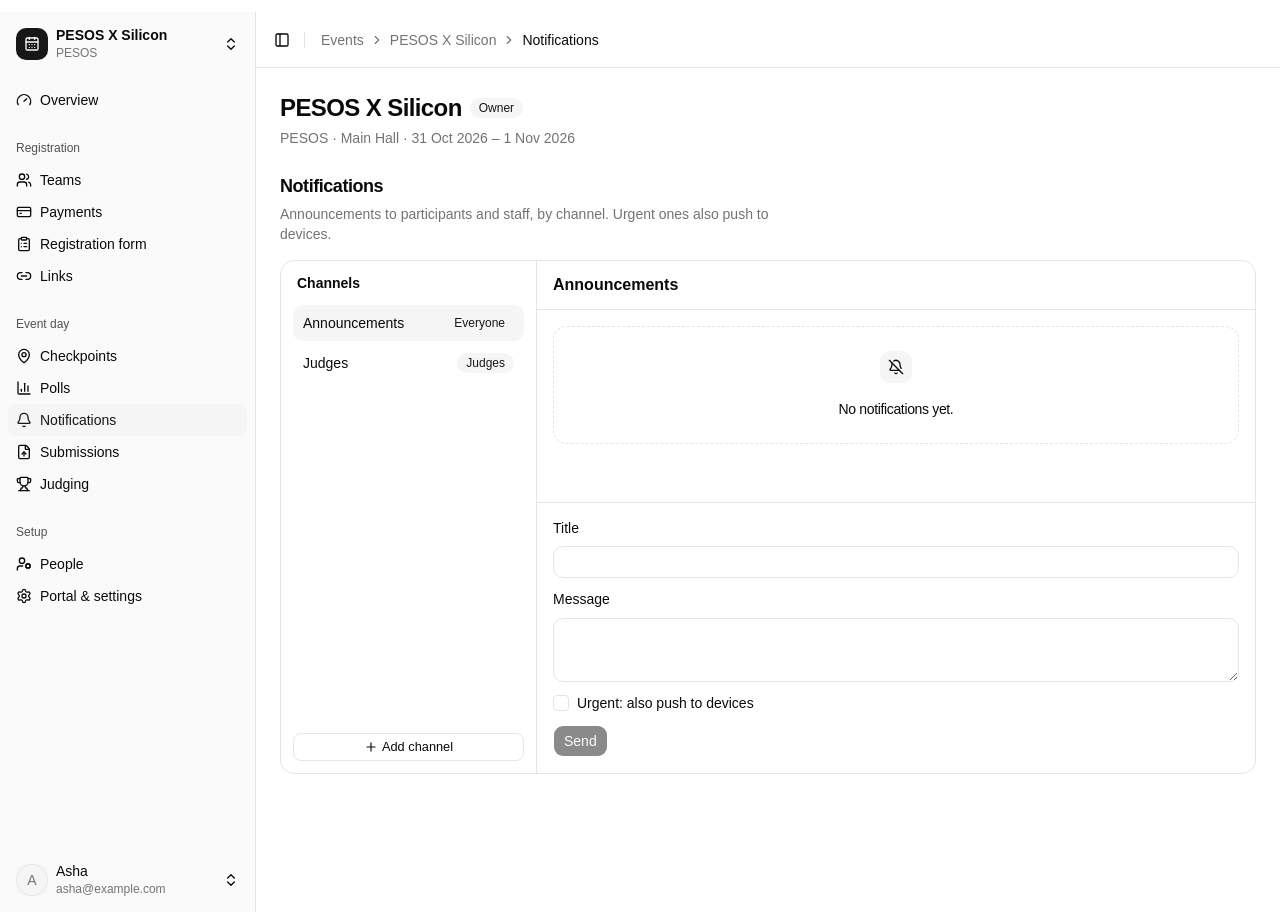
Test case: notifications › staff send to a channel they can use, urgently if needed
The image size is (1280, 912).
expect the text "No notifications yet." is shown: met, box [839,399,953,419]
In the field labelled "Title": [896, 562] box [553,546,1239,578], type "Lunch"
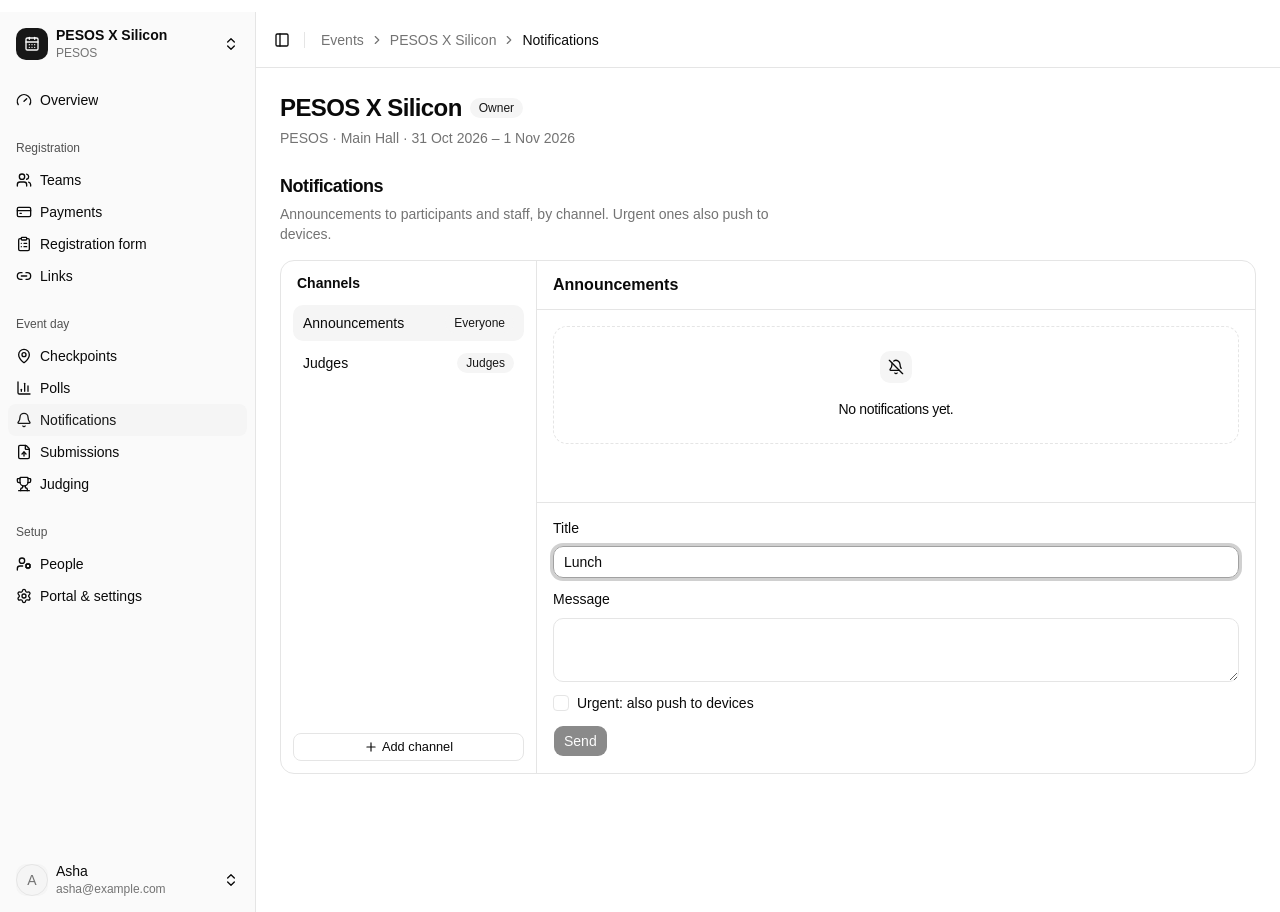
In the text box labelled "Message": [896, 650] box [553,618,1239,682], type "Now"
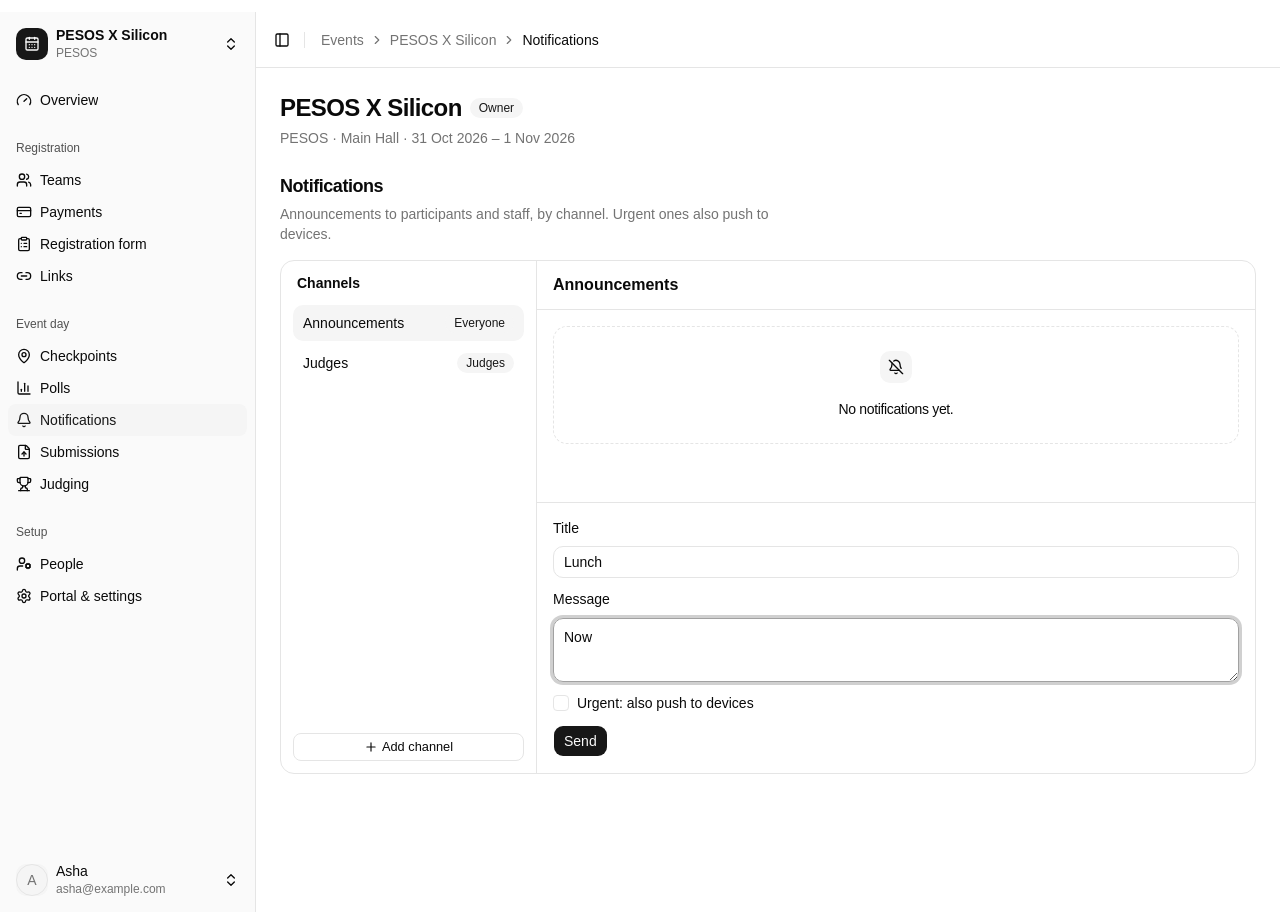
Click the checkbox named "Urgent: also push to devices": [561, 703] box [553,695,569,711]
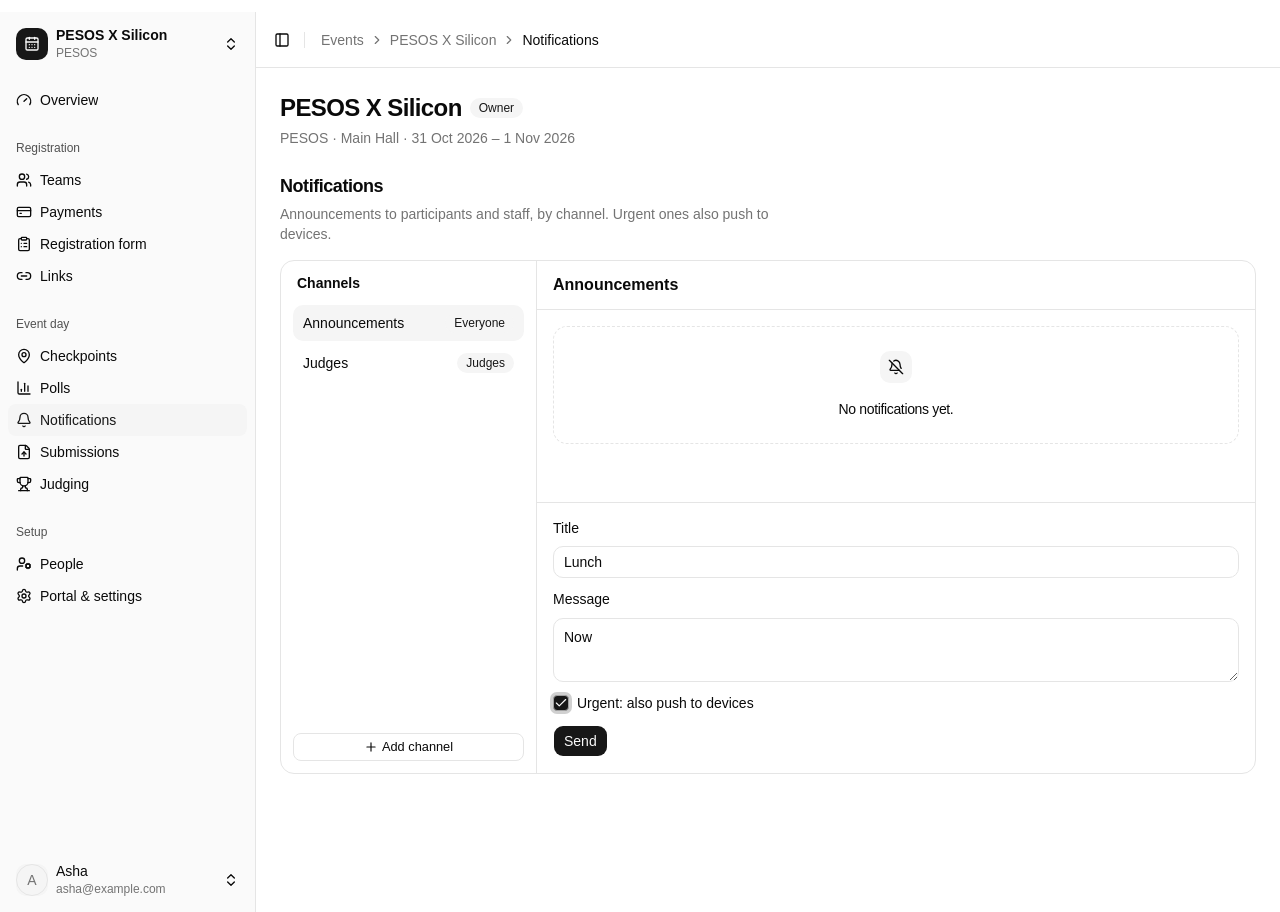
Click the button "Send": [580, 741] box [553,725,608,757]
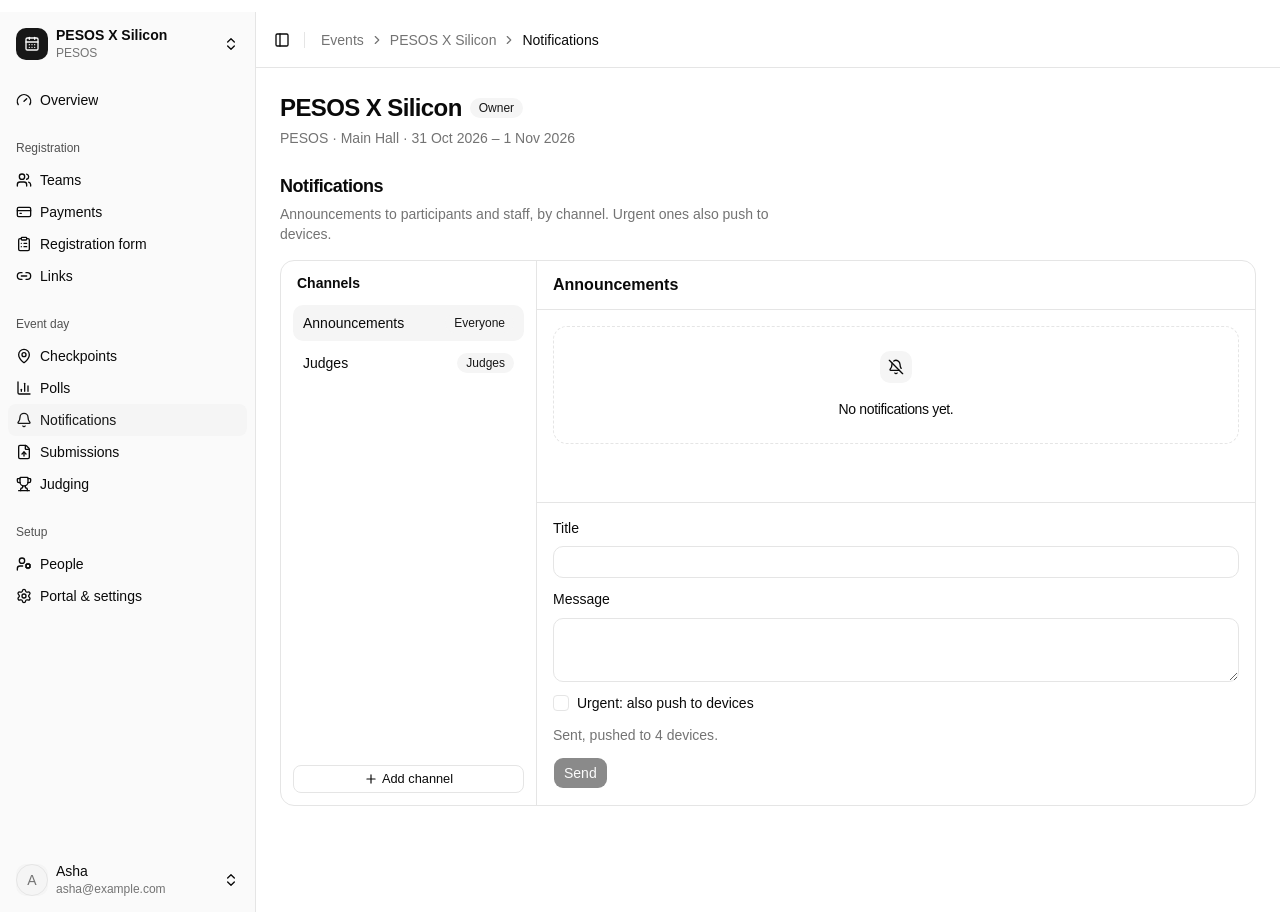
expect the text "Sent, pushed to 4 devices." is shown: met, box [553,727,718,743]
expect the field labelled "Title" is empty: met, box [553,546,1239,578]
Channels they cannot send to have no composer.
Click the button "Judges Judges": [408, 363] box [293,345,524,381]
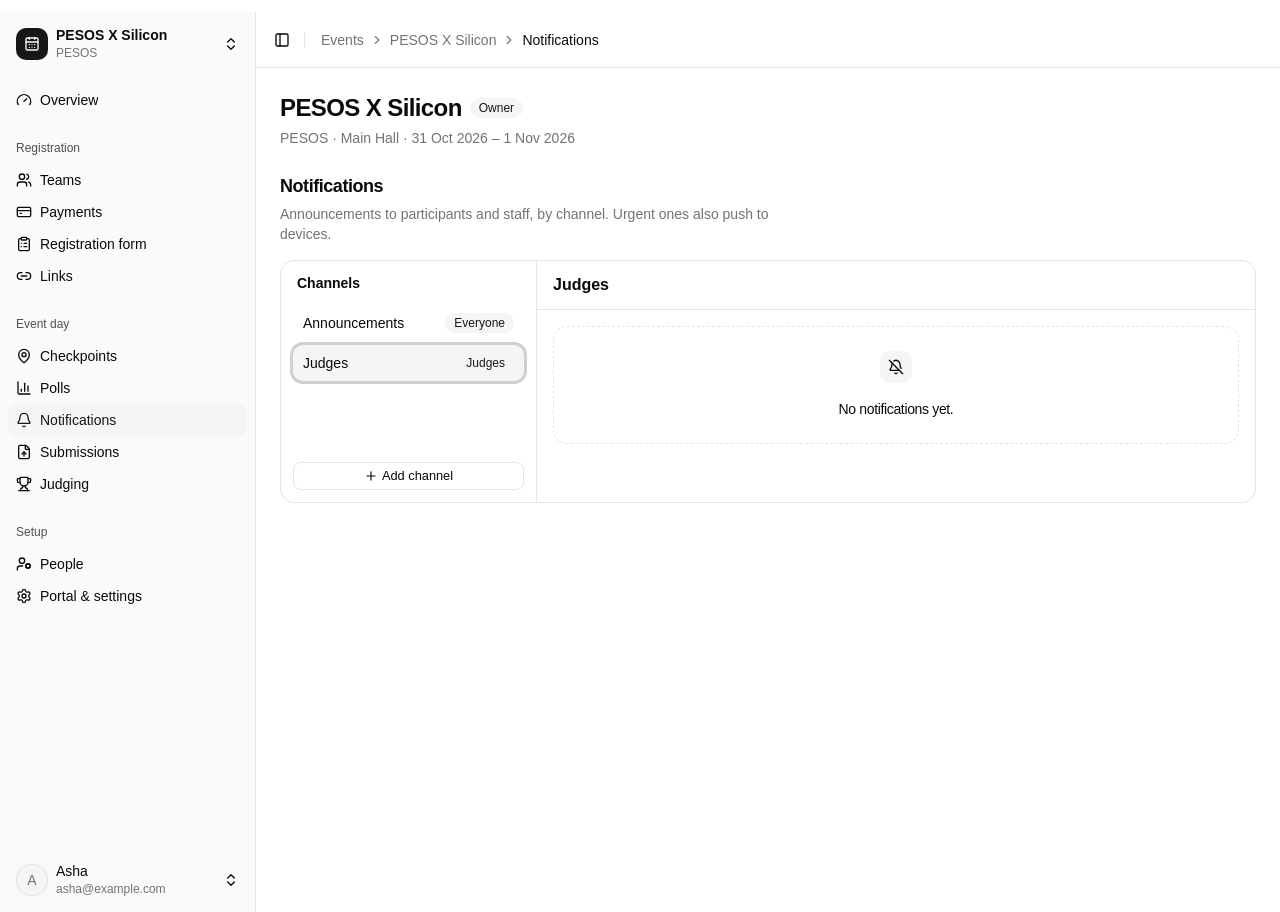
expect the label labelled "Title" is gone: met
